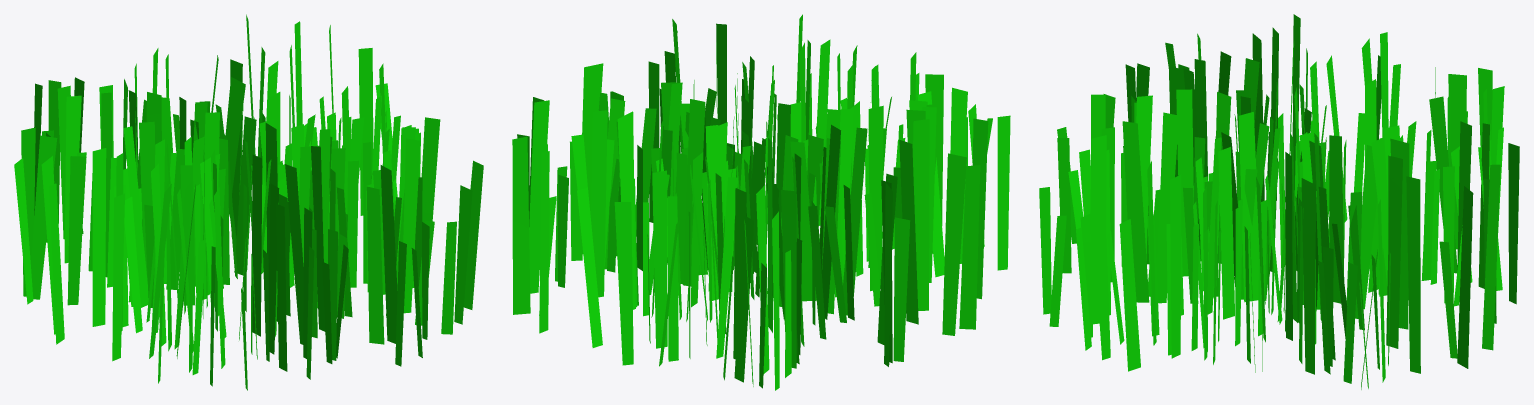
The model's file is Grass_For_Games.obj.
3 views of the same model, side by side, from view 1: azimuth 30°, elevation 25°; view 2: azimuth 150°, elevation 25°; view 3: azimuth 270°, elevation 25° (orthographic). The views are drawn at different scales.
Visible parts, largest first — view 1: Wheat_Grass_High_Dense; view 2: Wheat_Grass_High_Dense; view 3: Wheat_Grass_High_Dense.
Boxes of the visible parts, left/top/right/bottom form: Wheat_Grass_High_Dense: left=14, top=14, right=483, bottom=390; Wheat_Grass_High_Dense: left=512, top=14, right=1010, bottom=390; Wheat_Grass_High_Dense: left=1039, top=14, right=1519, bottom=389.
Bounding box in the file's own units: 0.4833 × 0.217 × 0.4912.
